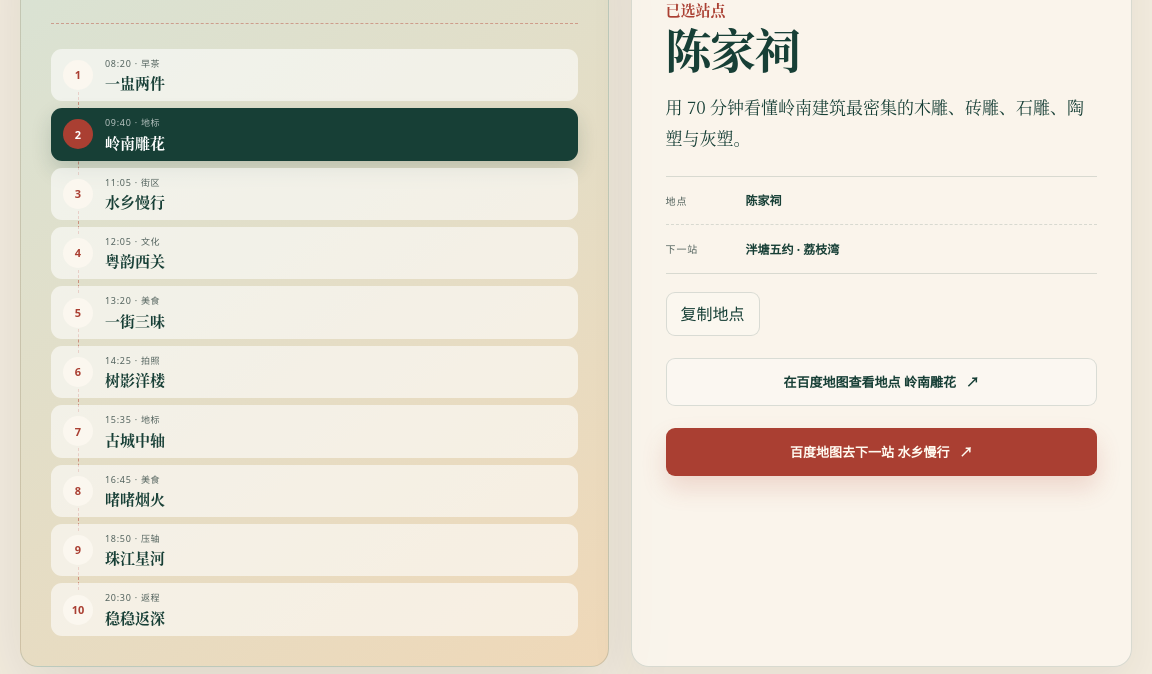
Test: TripViews › shows selectable place text when clipboard permission fails
(page scrolled)
Click the button "复制地点".
click(713, 314)  # box [666,292,760,336]
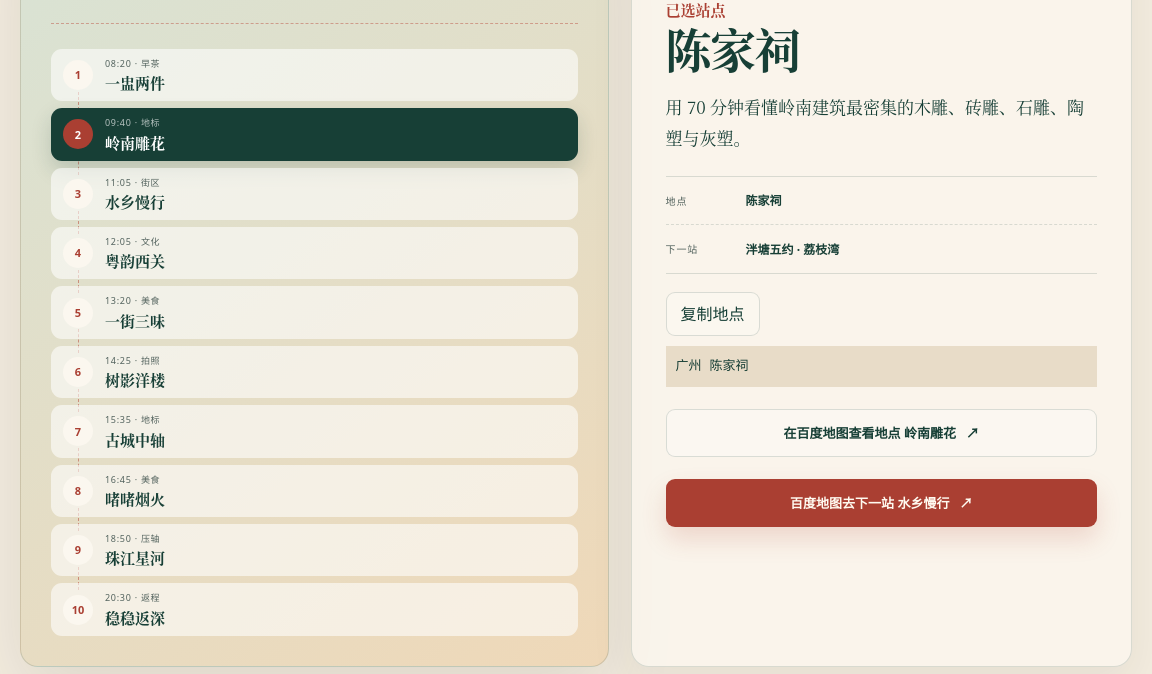
expect the text named "手动复制地点" reads "广州 陈家祠": met, box [676,358,748,373]
